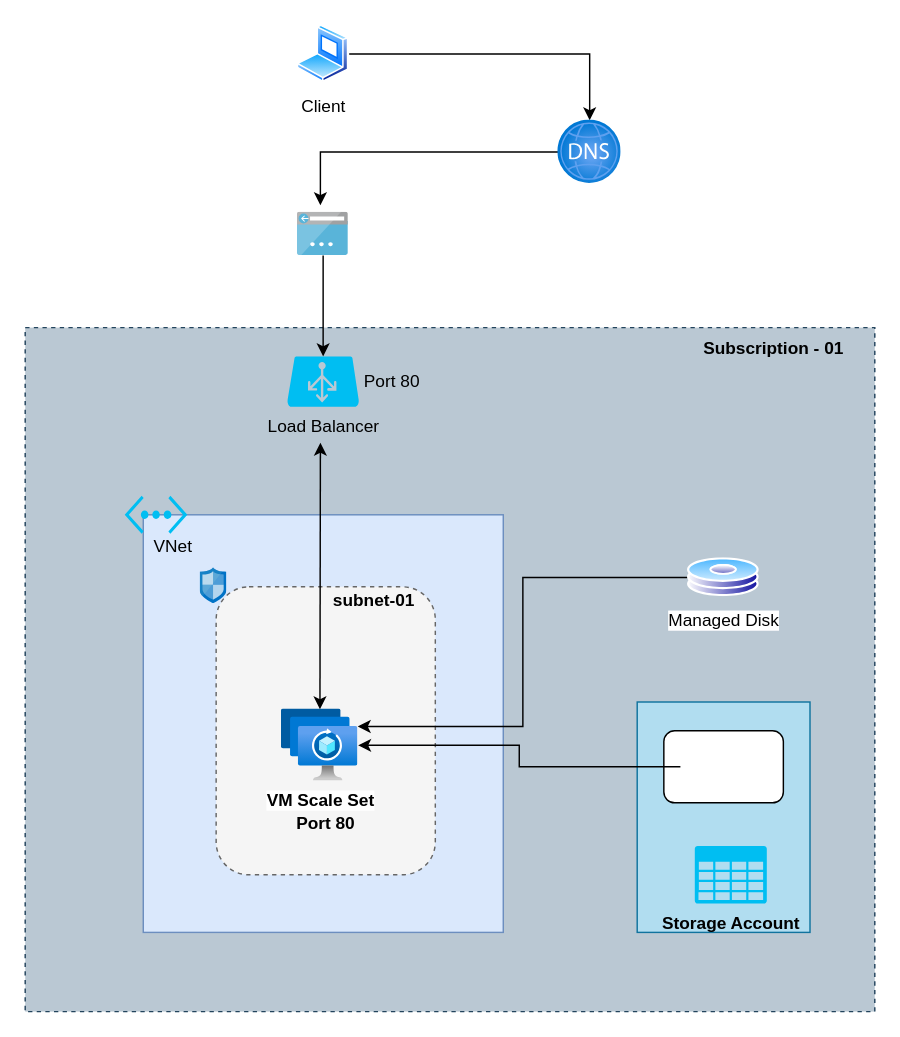
Image size: 900x1037. Some labels were removed from this diagram. The shapes that lost their labels are listed below. From the top down, each one's centre as x and y in pixels, then its label:
At (589,151): "Azure DNS".
At (322,233): "IP Address".
At (722,766): "Diagnostics Logs".
